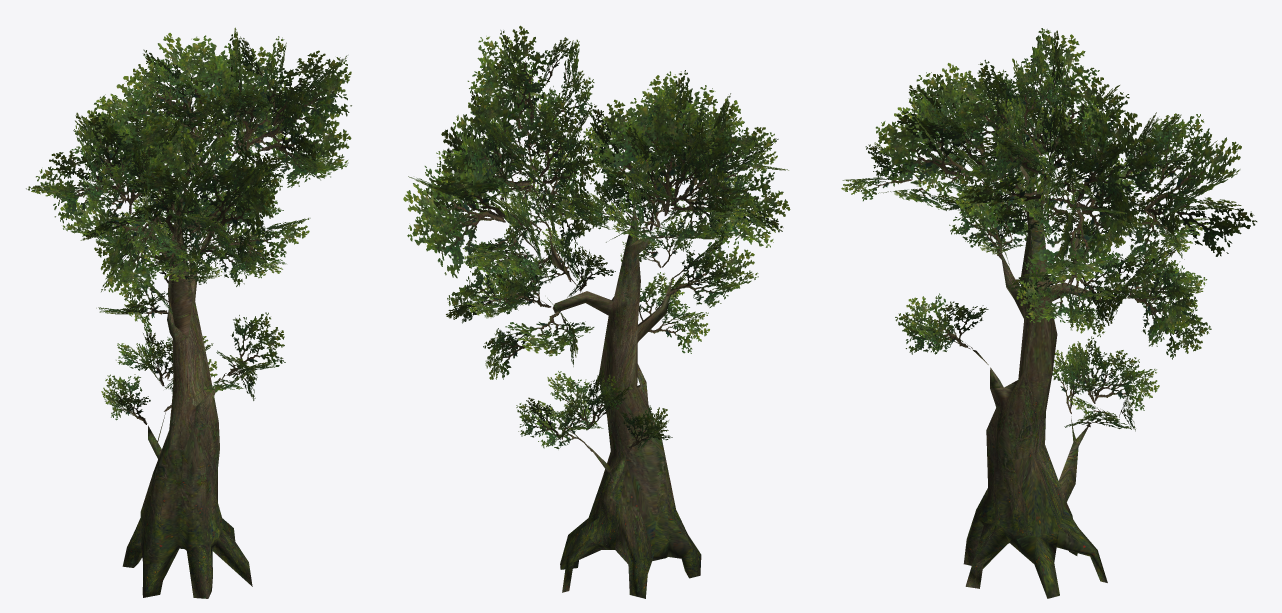
Rendered from d_sd_shu01d_zw.FBX.
3 views of the same model, side by side, from view 1: azimuth 30°, elevation 25°; view 2: azimuth 150°, elevation 25°; view 3: azimuth 270°, elevation 25° (orthographic). The views are drawn at different scales.
Parts seen in each view (by area): view 1: d_sd_shu01d_zw_B, d_sd_shu01d_zw_A; view 2: d_sd_shu01d_zw_B, d_sd_shu01d_zw_A; view 3: d_sd_shu01d_zw_B, d_sd_shu01d_zw_A.
Part boxes in pixels (<box>): d_sd_shu01d_zw_B: <box>26,27,351,424</box>; d_sd_shu01d_zw_A: <box>122,182,252,598</box>; d_sd_shu01d_zw_B: <box>403,25,790,451</box>; d_sd_shu01d_zw_A: <box>548,184,701,598</box>; d_sd_shu01d_zw_B: <box>841,28,1257,431</box>; d_sd_shu01d_zw_A: <box>963,156,1107,598</box>.
Size of the model in its own units: 1120 by 1726 by 1250.
